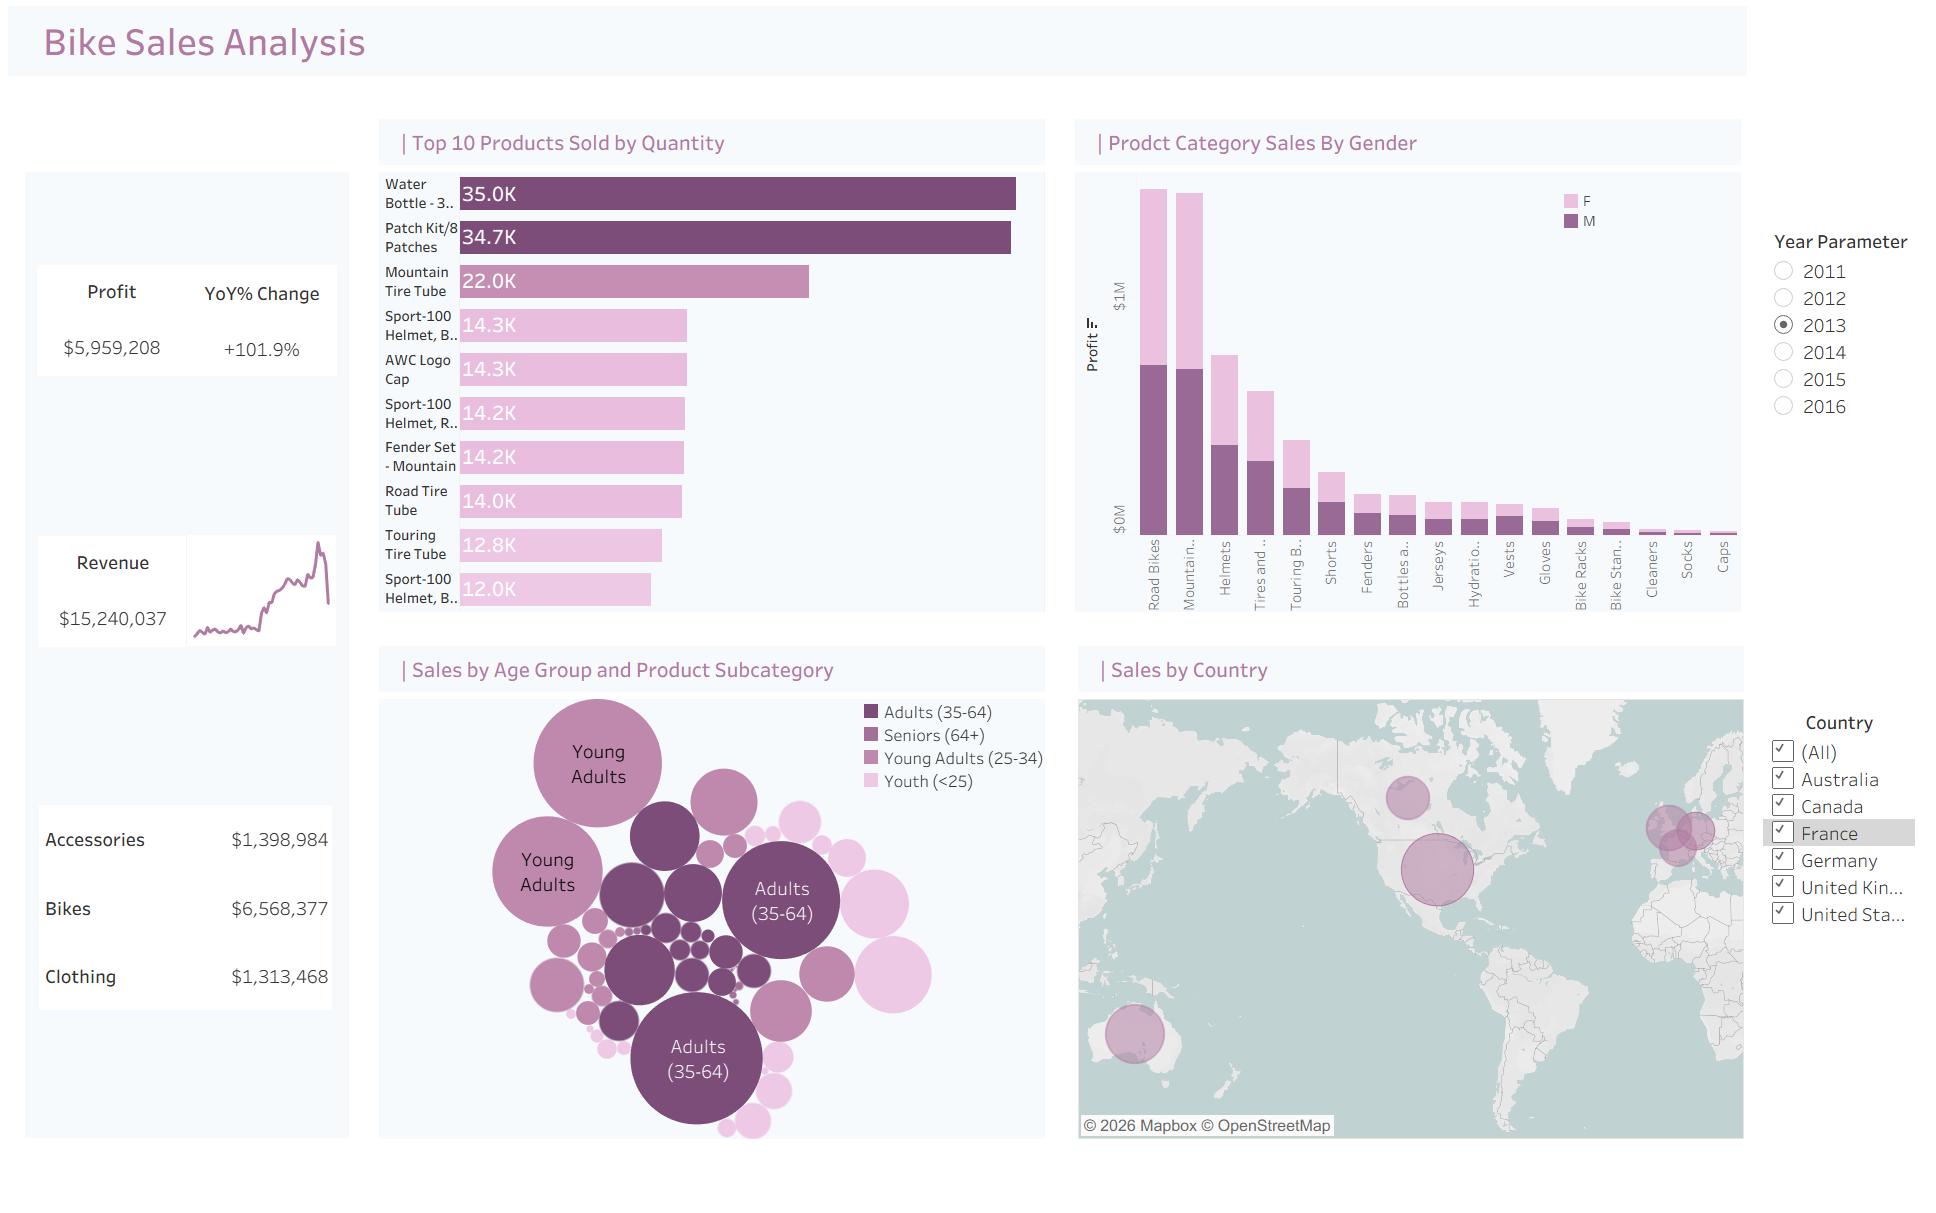

This screenshot's page, from the dashboard's own definition file:
{"tool":"tableau","page":{"name":"Sales Dashboard","canvas":[1800,1100],"ordinal":0},"visuals":[{"type":"title","box":[8,8,1607,78]},{"type":"blank","box":[8,86,1607,1006]},{"type":"text","box":[355.4,111.8,617.9,41.1]},{"type":"text","box":[1001.1,111.8,617.9,41.1]},{"type":"worksheet","title":"Top 10 Products","mark":"Bar","rows":["Product"],"box":[355.4,159.2,617.9,393.5]},{"type":"worksheet","title":"Subcategory Bar Chart","mark":"Automatic","rows":["Profit"],"cols":["Sub_Category"],"box":[1001.1,159.2,617.9,393.5]},{"type":"legend","title":"Subcategory Bar Chart","param":"[federated.0ri82ka0fhtgyn11auxmz0an0i8s].[none:Customer_Gender:nk]","box":[1452.1,176.2,162.4,68]},{"type":"parameter","param":"[Parameters].[Parameter 0060222821445634]","box":[1641,209,141,228]},{"type":"worksheet","title":"Profit Card","mark":"Automatic","cols":["Calculation_0060222820302849"],"box":[38,242.4,139.2,99.3]},{"type":"worksheet","title":"YoY% Change","mark":"Automatic","cols":["Calculation_0060222825164808"],"box":[177.2,242.4,139.2,99.3]},{"type":"worksheet","title":"Revenue Line Chart","mark":"Automatic","rows":["Revenue"],"cols":["Date"],"box":[176.3,483.8,139.2,99.3]},{"type":"worksheet","title":"Revenue Card","mark":"Automatic","cols":["Calculation_1293874920861696"],"box":[39,484.7,139.2,99.3]},{"type":"text","box":[355.4,583.1,617.9,41.1]},{"type":"text","box":[1003.9,583.1,617.9,41.1]},{"type":"worksheet","title":"Age Group Bubble Chart","mark":"Circle","box":[355.4,630.5,617.9,393.5]},{"type":"worksheet","title":"Map","mark":"Automatic","box":[1003.9,630.5,617.9,393.5]},{"type":"legend","title":"Age Group Bubble Chart","param":"[federated.0ri82ka0fhtgyn11auxmz0an0i8s].[none:Age_Group:nk]","box":[801.6,631.4,196.7,125.2]},{"type":"filter","title":"Age Group Bubble Chart","param":"[federated.0ri82ka0fhtgyn11auxmz0an0i8s].[none:Country:nk]","box":[1639,639,142,251]},{"type":"worksheet","title":"Cost cards","mark":"Automatic","rows":["Product_Category"],"box":[39.9,725.3,271.9,183.3]}]}

Visuals, with their boxes in screenshot pixels (x1, y1, x2, y2), scaled from the page's 1800x1100 canvas onto the 1936x1213 screenshot:
title: crop(9, 9, 1737, 95)
blank: crop(9, 95, 1737, 1204)
text: crop(382, 123, 1047, 169)
text: crop(1077, 123, 1741, 169)
"Top 10 Products" worksheet (Bar marks): crop(382, 176, 1047, 609)
"Subcategory Bar Chart" worksheet: crop(1077, 176, 1741, 609)
"Subcategory Bar Chart" legend: crop(1562, 194, 1736, 269)
parameter: crop(1765, 230, 1917, 482)
"Profit Card" worksheet: crop(41, 267, 191, 377)
"YoY% Change" worksheet: crop(191, 267, 340, 377)
"Revenue Line Chart" worksheet: crop(190, 533, 339, 643)
"Revenue Card" worksheet: crop(42, 534, 192, 644)
text: crop(382, 643, 1047, 688)
text: crop(1080, 643, 1744, 688)
"Age Group Bubble Chart" worksheet (Circle marks): crop(382, 695, 1047, 1129)
"Map" worksheet: crop(1080, 695, 1744, 1129)
"Age Group Bubble Chart" legend: crop(862, 696, 1074, 834)
"Age Group Bubble Chart" filter: crop(1763, 705, 1916, 981)
"Cost cards" worksheet: crop(43, 800, 335, 1002)
